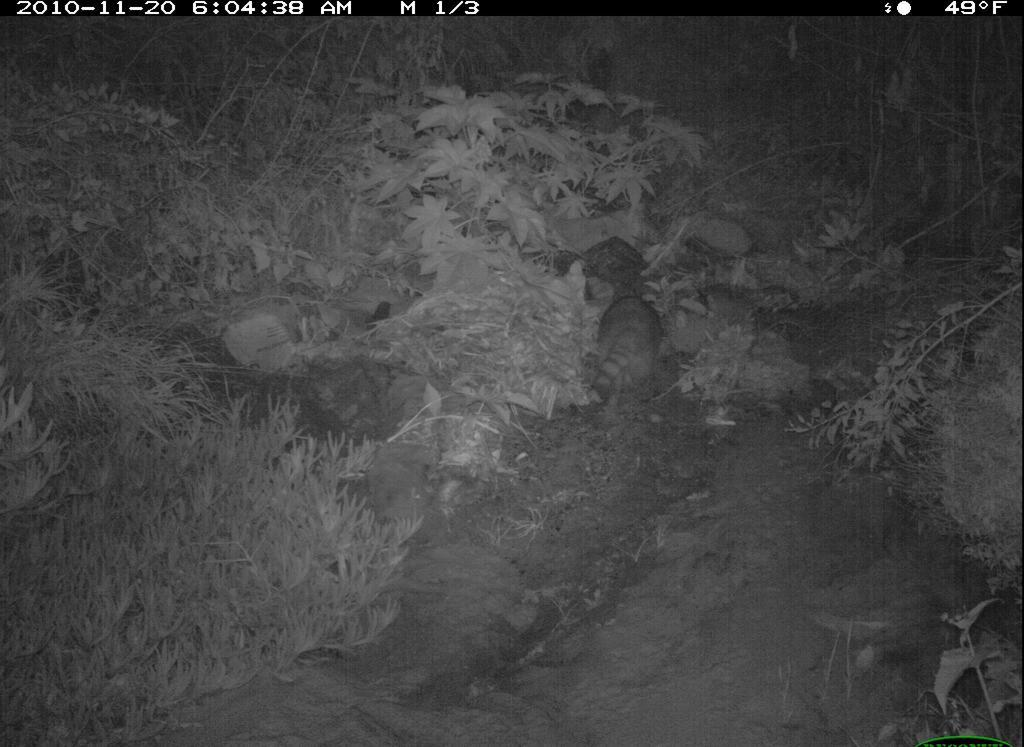raccoon: (585, 289, 667, 415)
